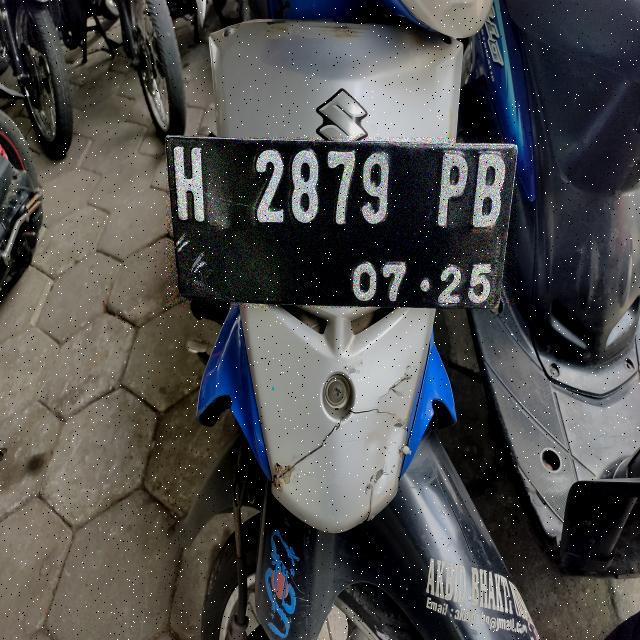plate: (167, 137, 516, 307)
